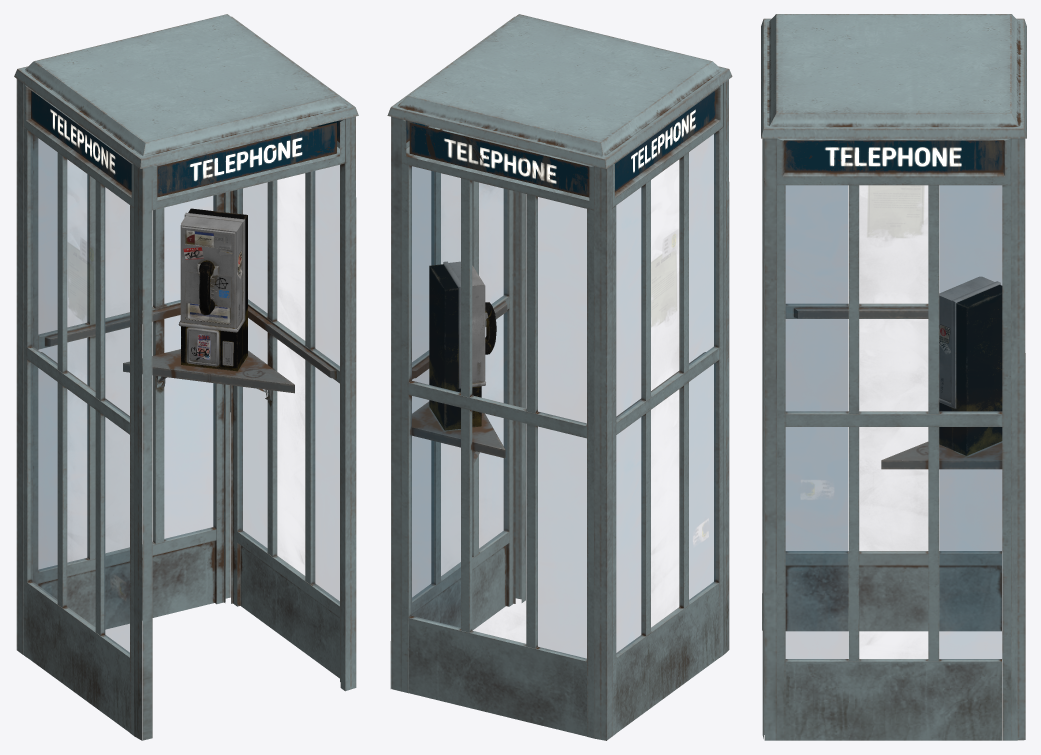
Rendered from phone_booth_2.glb.
3 renders of one model, left to right at view 1: azimuth 30°, elevation 25°; view 2: azimuth 150°, elevation 25°; view 3: azimuth 270°, elevation 25°, orthographic. The views are drawn at different scales.
Visible parts, largest first — view 1: bolt_low001_box_tex_0, bolt_low001_glass_tex_0, bolt_low001_phone_tex_0; view 2: bolt_low001_box_tex_0, bolt_low001_glass_tex_0, bolt_low001_phone_tex_0; view 3: bolt_low001_box_tex_0, bolt_low001_glass_tex_0, bolt_low001_phone_tex_0.
Part boxes in pixels (bbox=[...]): bolt_low001_box_tex_0: bbox=[14, 14, 358, 740]; bolt_low001_glass_tex_0: bbox=[31, 133, 339, 653]; bolt_low001_phone_tex_0: bbox=[178, 208, 247, 371]; bolt_low001_box_tex_0: bbox=[387, 14, 732, 740]; bolt_low001_glass_tex_0: bbox=[411, 133, 715, 659]; bolt_low001_phone_tex_0: bbox=[429, 261, 496, 430]; bolt_low001_box_tex_0: bbox=[761, 14, 1026, 740]; bolt_low001_glass_tex_0: bbox=[786, 185, 1001, 659]; bolt_low001_phone_tex_0: bbox=[939, 276, 1002, 455].
Bounding box in the file's own units: 28.41 × 73.33 × 28.41.
3 materials, 3 textured.
